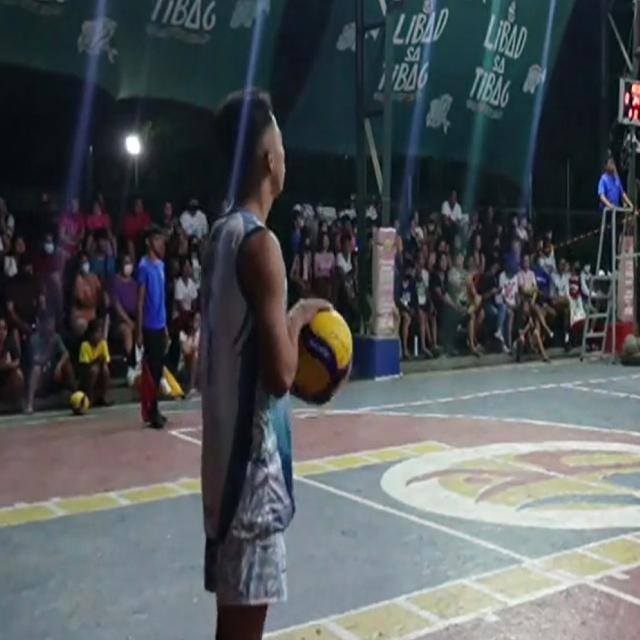volleyball: (291, 310, 351, 406)
